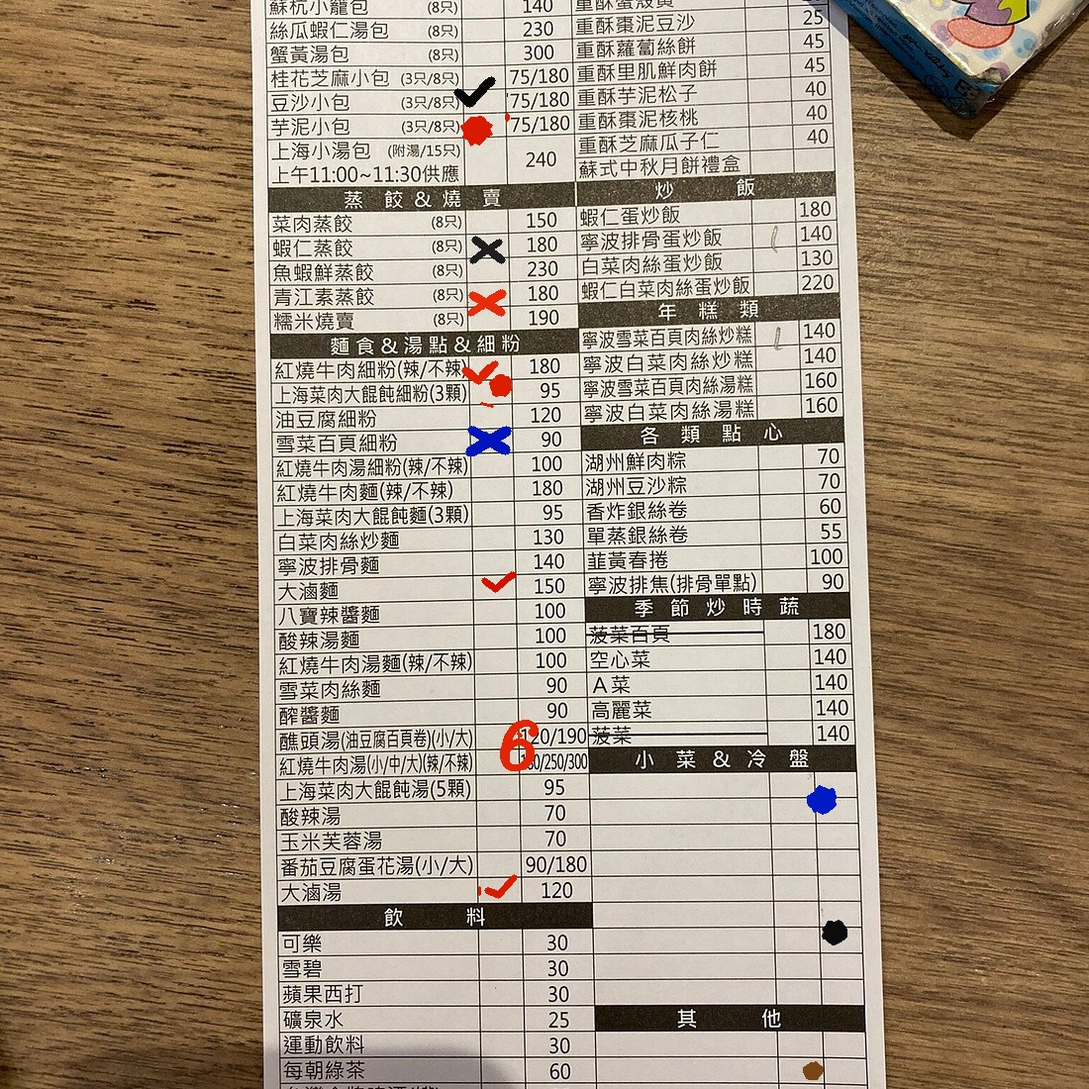marked_circle: (463, 107, 507, 135), (781, 1056, 825, 1084), (468, 378, 512, 406), (816, 794, 859, 822), (819, 926, 862, 953)
marked_number_6: (477, 724, 521, 751)
marked_tick: (463, 84, 507, 112), (479, 875, 523, 903), (466, 354, 510, 382), (472, 574, 516, 602)
marked_x: (468, 280, 512, 308), (467, 232, 511, 259), (468, 428, 512, 455)
